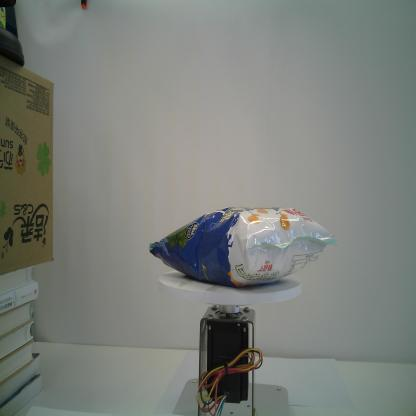Puffed Food: (149, 206, 337, 290)
